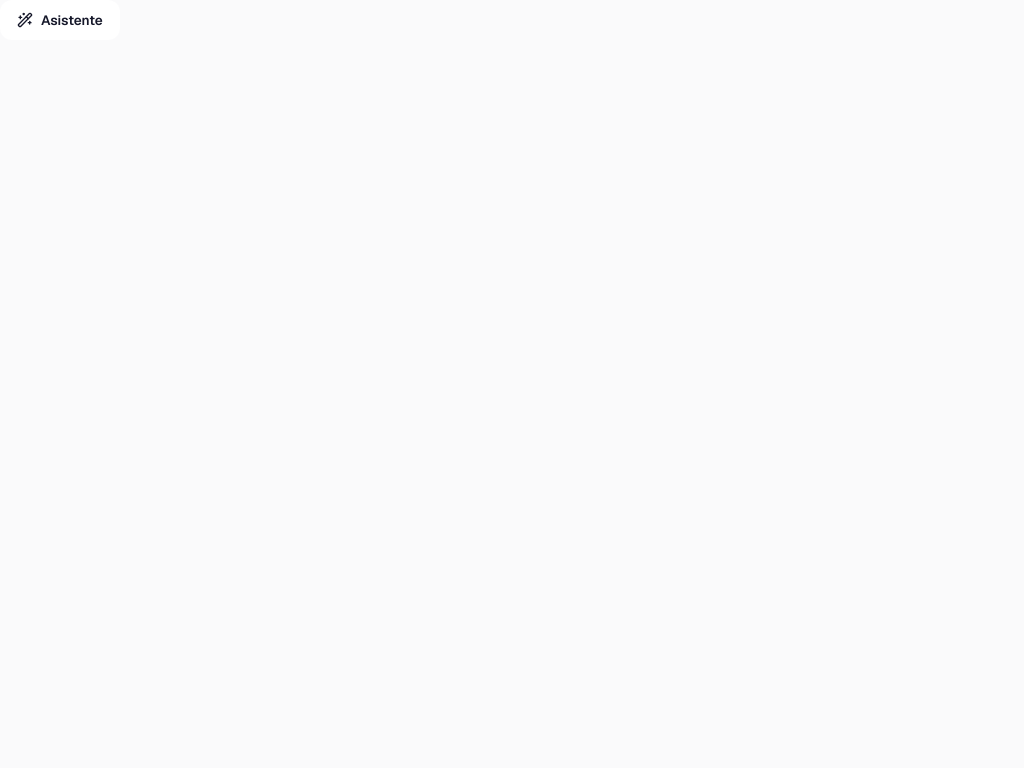
Test: AssistantSidePanel › sin proveedor muestra Próximamente y no deja pedir
The image size is (1024, 768).
Click the button with test id "assistant-side-open" at (60, 20), box [0, 0, 120, 40]
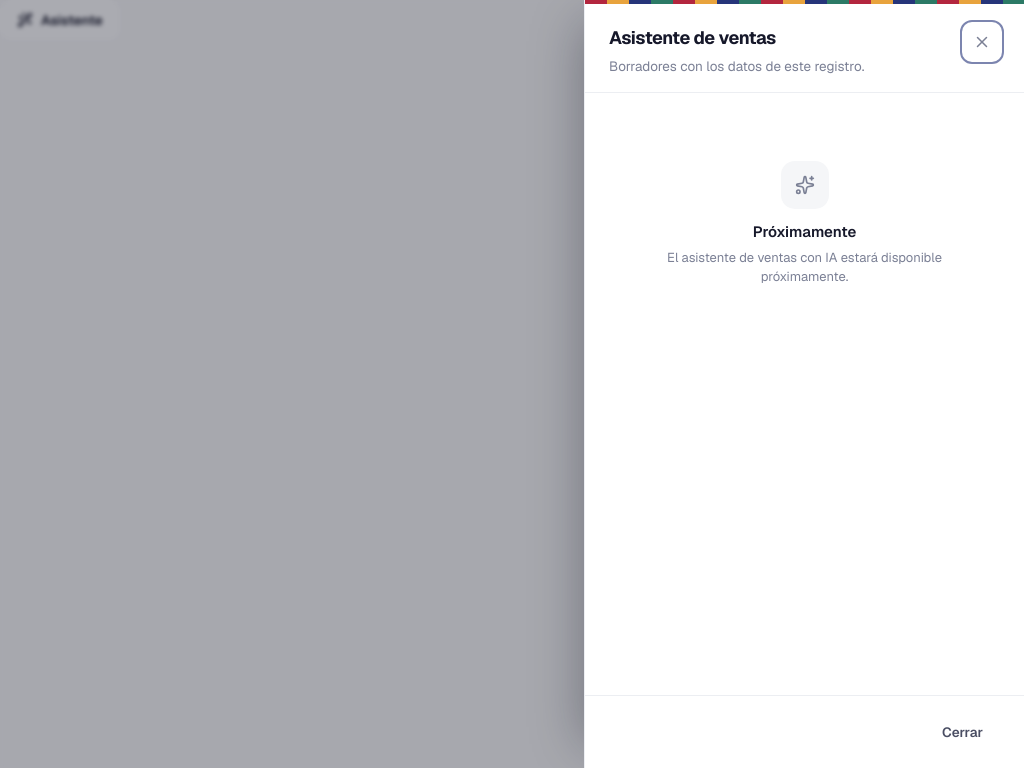
Expected: the element with test id "coming-soon" shows "Próximamente", [753, 222, 856, 241]
